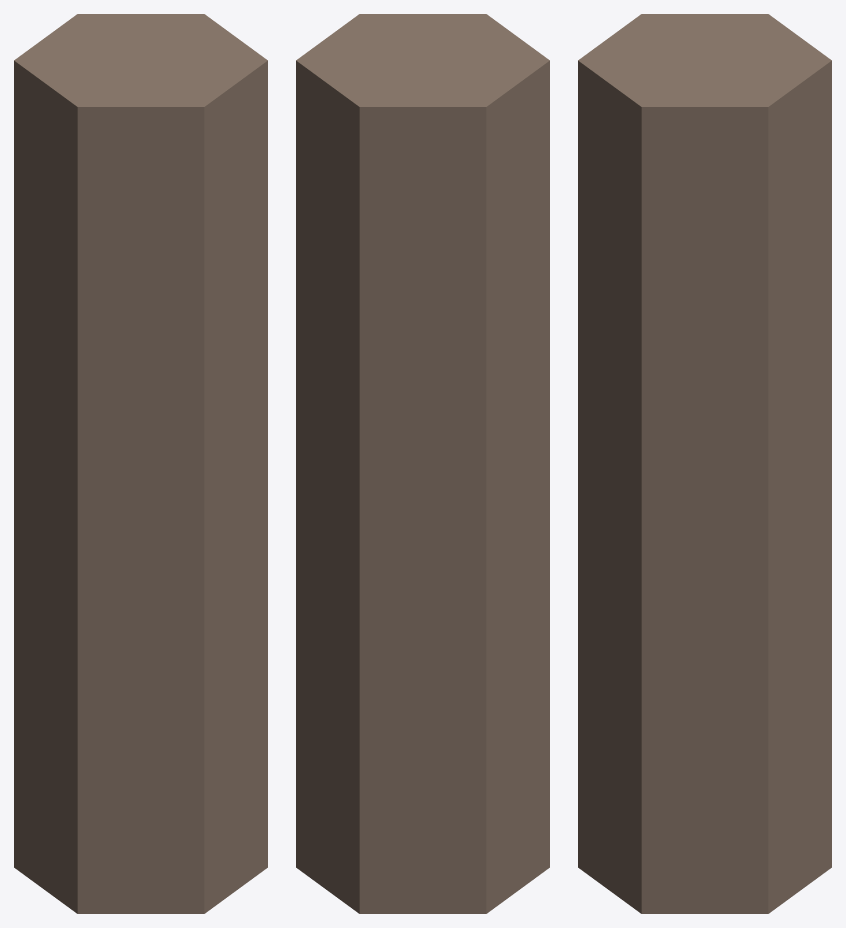
The model's file is tracking_object_3.dae.
3 views of the same model, side by side, from view 1: azimuth 30°, elevation 25°; view 2: azimuth 150°, elevation 25°; view 3: azimuth 270°, elevation 25° (orthographic).
Visible parts, largest first — view 1: Cylinder; view 2: Cylinder; view 3: Cylinder.
Boxes of the visible parts, box(x1,y1,x2,y2) form: Cylinder: box(14, 14, 267, 913); Cylinder: box(296, 14, 549, 913); Cylinder: box(578, 14, 831, 913).
Size of the model in its own units: 0.6175 by 0.7131 by 2.5.
